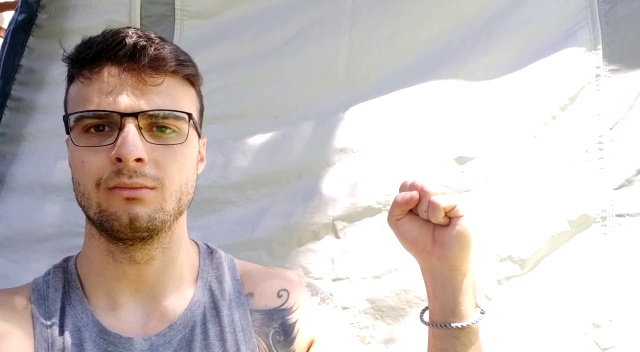Fist: (387, 179, 479, 271)
